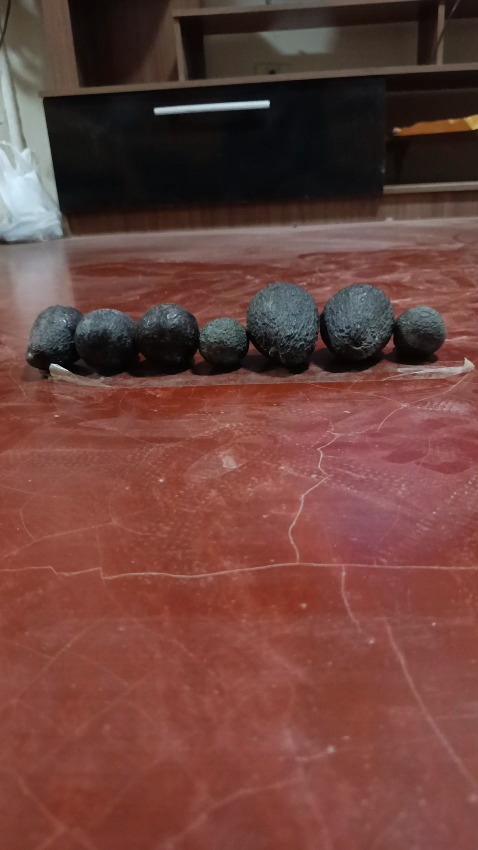Primera: (245, 280, 320, 369), (320, 283, 395, 363)
Segunda: (136, 303, 200, 369), (74, 308, 138, 374), (25, 305, 82, 373)
Tercera: (393, 304, 446, 359), (198, 317, 248, 369)
